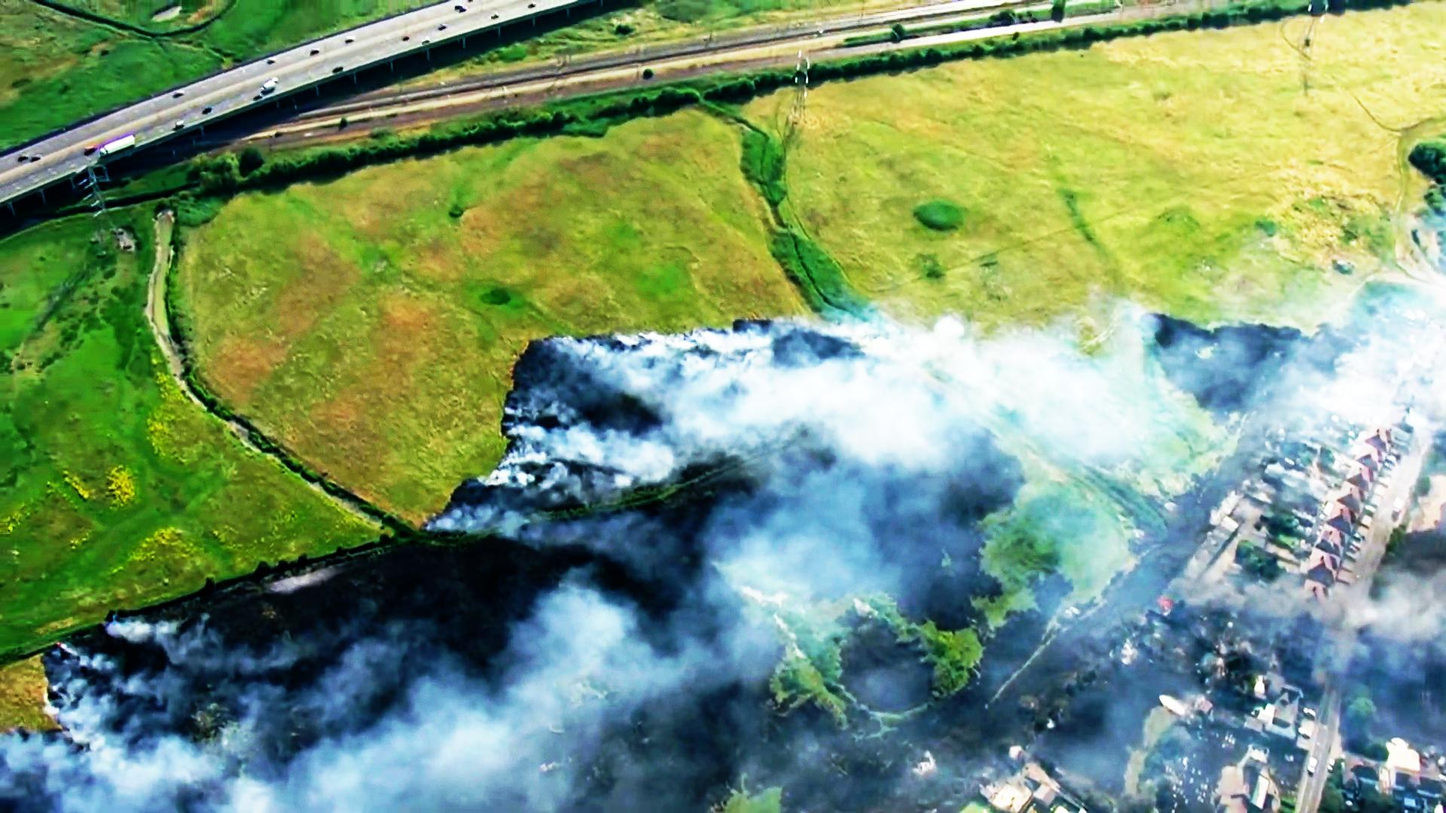smoke: (176, 685, 571, 813), (680, 347, 873, 496)
